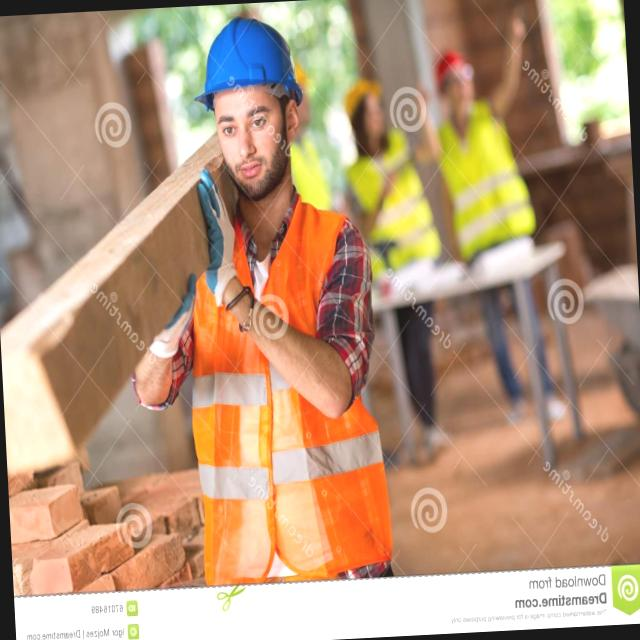helmet: (189, 12, 310, 119)
vest: (178, 174, 366, 545)
